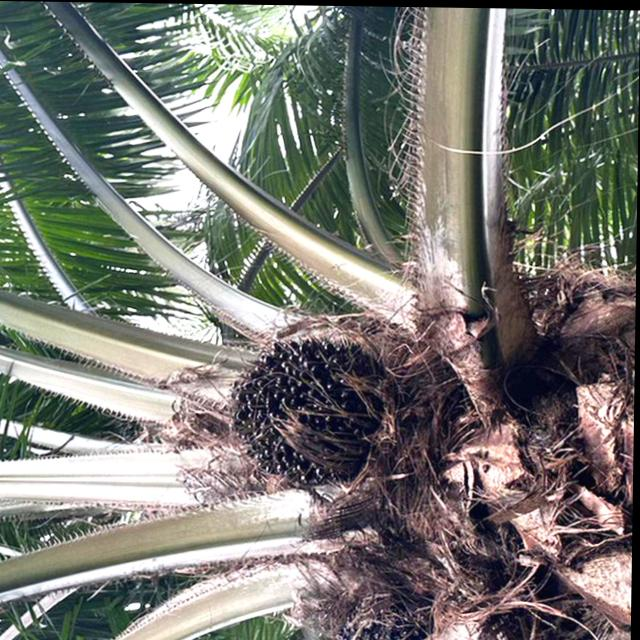unripe: (223, 325, 396, 491)
